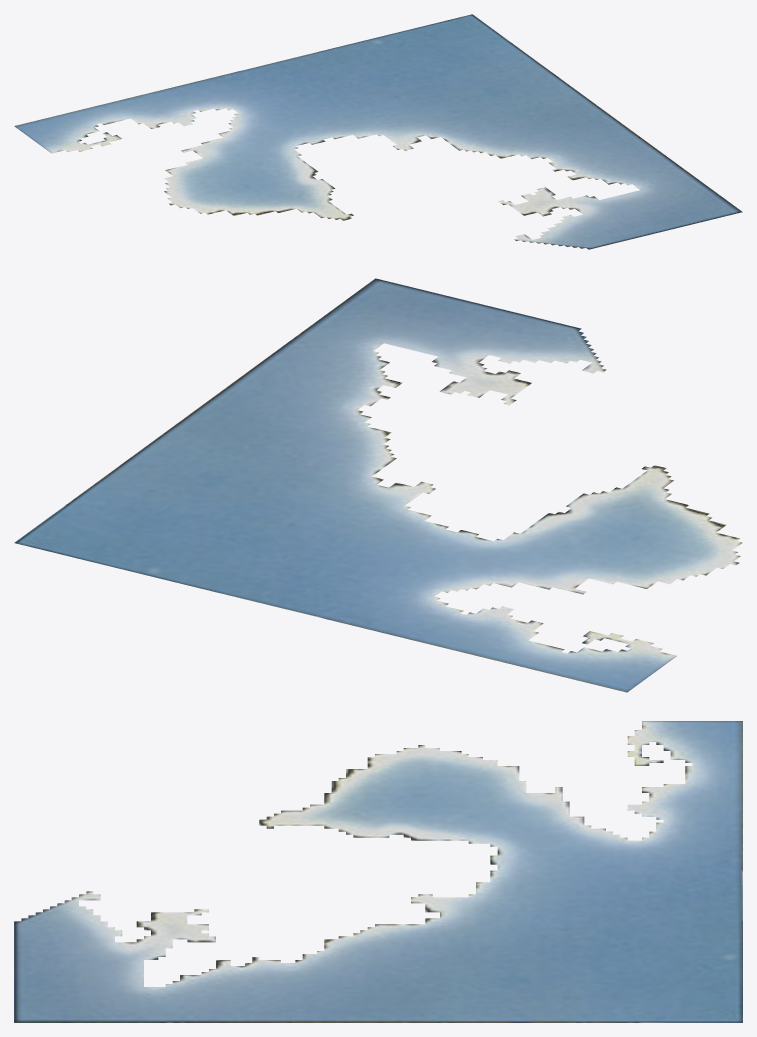
Rendered from eastern-canada-water.glb.
The picture shows the model from 3 angles, top to bottom: view 1: azimuth 30°, elevation 25°; view 2: azimuth 150°, elevation 25°; view 3: azimuth 270°, elevation 25°; orthographic projection. The views are drawn at different scales.
Visible parts, largest first — view 1: Plane; view 2: Plane; view 3: Plane.
Boxes of the visible parts, bbox=[...] form: Plane: bbox=[14, 14, 742, 249]; Plane: bbox=[14, 278, 742, 692]; Plane: bbox=[14, 721, 742, 1022].
Bounding box in the file's own units: 0.7972 × 0 × 0.8141.
1 material, 1 textured.
